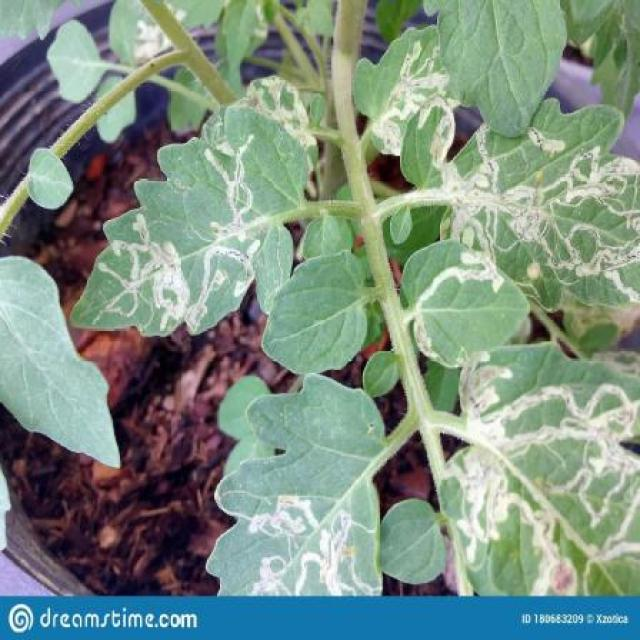Healthy: (0, 254, 121, 471), (260, 247, 370, 377)
Leaf Miner: (67, 108, 309, 339), (400, 88, 640, 313), (437, 336, 640, 594), (203, 367, 388, 596), (401, 236, 532, 371), (352, 22, 464, 159)
